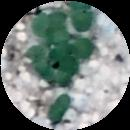Basil: (46, 43, 83, 73), (31, 60, 66, 84), (59, 35, 94, 57), (74, 0, 93, 34), (35, 13, 65, 32), (51, 95, 69, 122)
